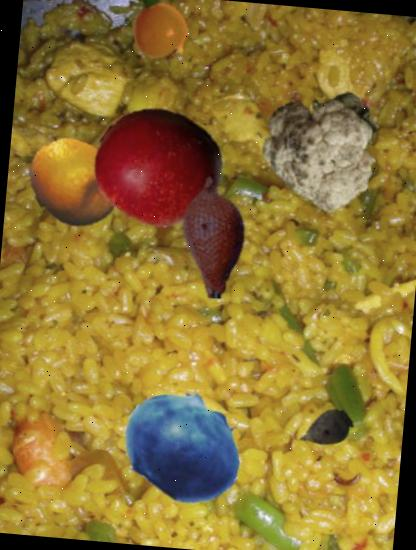Beetroot: (296, 400, 358, 462)
Cauliflower: (257, 76, 391, 210)
Huckleberry: (117, 379, 251, 514)
Kumquats: (22, 130, 126, 234)
Nectarine: (90, 99, 226, 236)
Physalis: (130, 3, 194, 66)
Salak: (149, 172, 282, 305)
